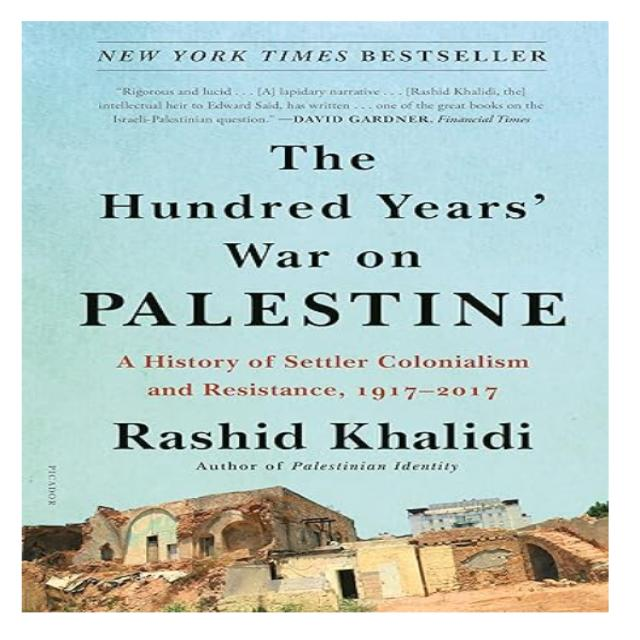titles-or-authors: (70, 138, 582, 341), (109, 417, 543, 460)
